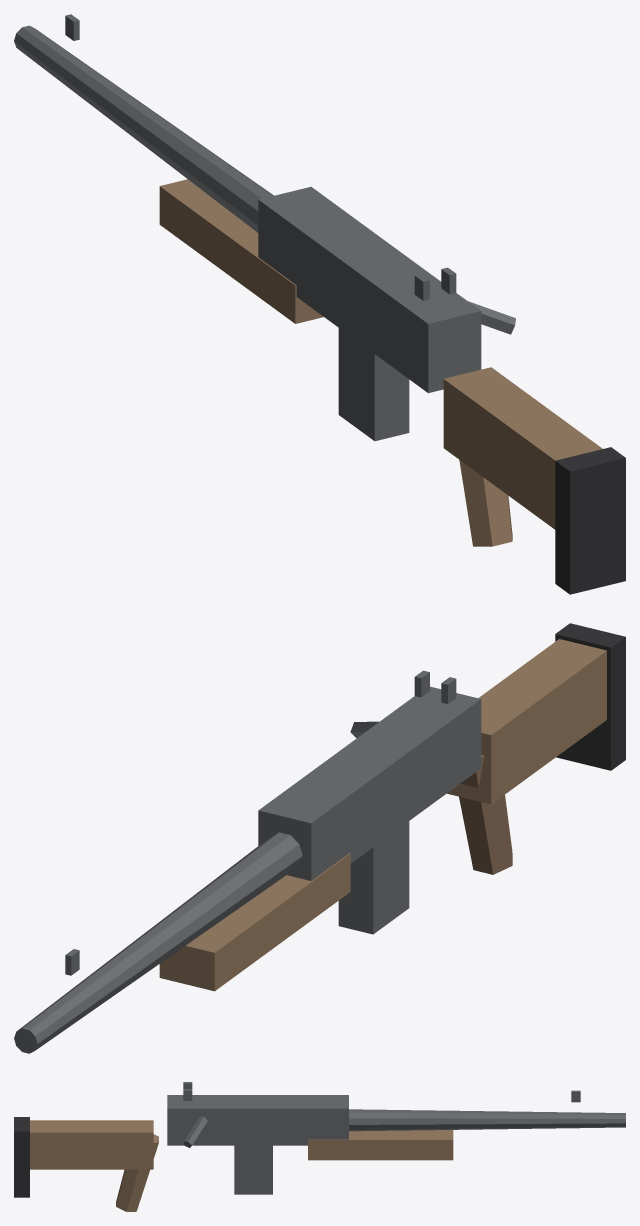
Rendered from SniperRifle.fbx.
3 views of the same model, one above another, from view 1: azimuth 30°, elevation 25°; view 2: azimuth 150°, elevation 25°; view 3: azimuth 270°, elevation 25° (orthographic). The views are drawn at different scales.
Visible parts, largest first — view 1: Receiver, Stock, Barrel, Butt, HandGuard, MagazineBody, GripHandle; view 2: Receiver, Stock, Barrel, HandGuard, MagazineBody, Butt, GripHandle; view 3: Receiver, Stock, Barrel, HandGuard, MagazineBody, Butt, GripHandle, BoltHandle.
Boxes of the visible parts, <box> form: Receiver: <box>258,186,481,393</box>; Stock: <box>443,367,602,529</box>; Barrel: <box>14,25,273,232</box>; Butt: <box>555,447,625,594</box>; HandGuard: <box>159,179,323,323</box>; MagazineBody: <box>338,328,409,441</box>; GripHandle: <box>459,460,512,546</box>; Receiver: <box>258,686,481,880</box>; Stock: <box>447,639,606,804</box>; Barrel: <box>14,832,302,1053</box>; HandGuard: <box>159,853,350,991</box>; MagazineBody: <box>338,821,409,934</box>; Butt: <box>555,623,625,770</box>; GripHandle: <box>459,755,512,874</box>; Receiver: <box>167,1095,348,1145</box>; Stock: <box>30,1120,153,1169</box>; Barrel: <box>349,1109,625,1131</box>; HandGuard: <box>308,1130,453,1160</box>; MagazineBody: <box>234,1145,272,1194</box>; Butt: <box>14,1117,29,1197</box>; GripHandle: <box>116,1134,158,1211</box>; BoltHandle: <box>183,1116,207,1147</box>.
Bounding box in the file's own units: 0.1482 × 0.2985 × 1.35.
